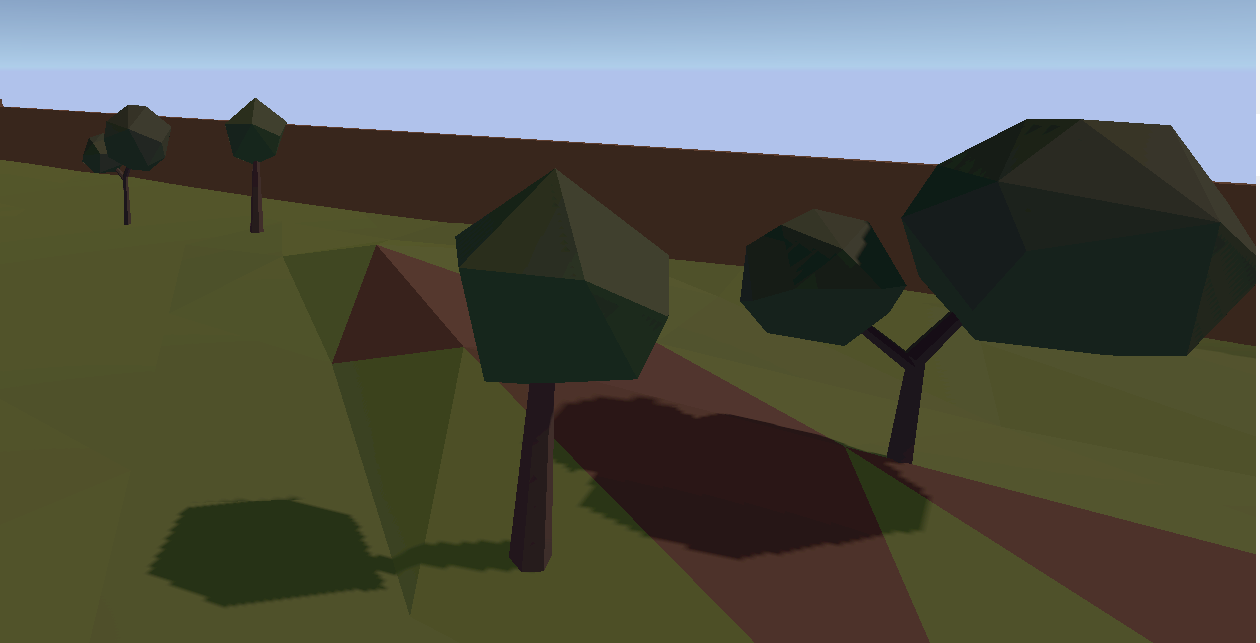tree: (739, 116, 1260, 458), (450, 165, 674, 576), (80, 103, 174, 227), (219, 94, 291, 232)
